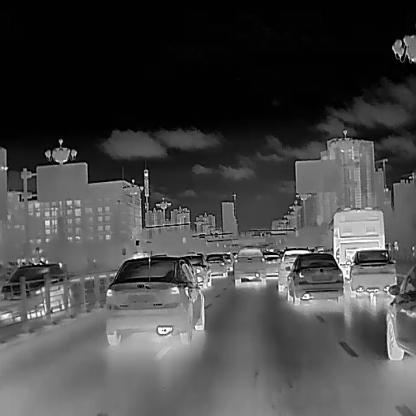car: (103, 255, 205, 348), (327, 206, 385, 281), (0, 263, 72, 323), (284, 252, 345, 306), (385, 260, 415, 361), (348, 249, 397, 298), (277, 247, 312, 292), (234, 246, 267, 288), (182, 254, 211, 288), (206, 253, 228, 277), (263, 251, 281, 276), (221, 252, 233, 270)
